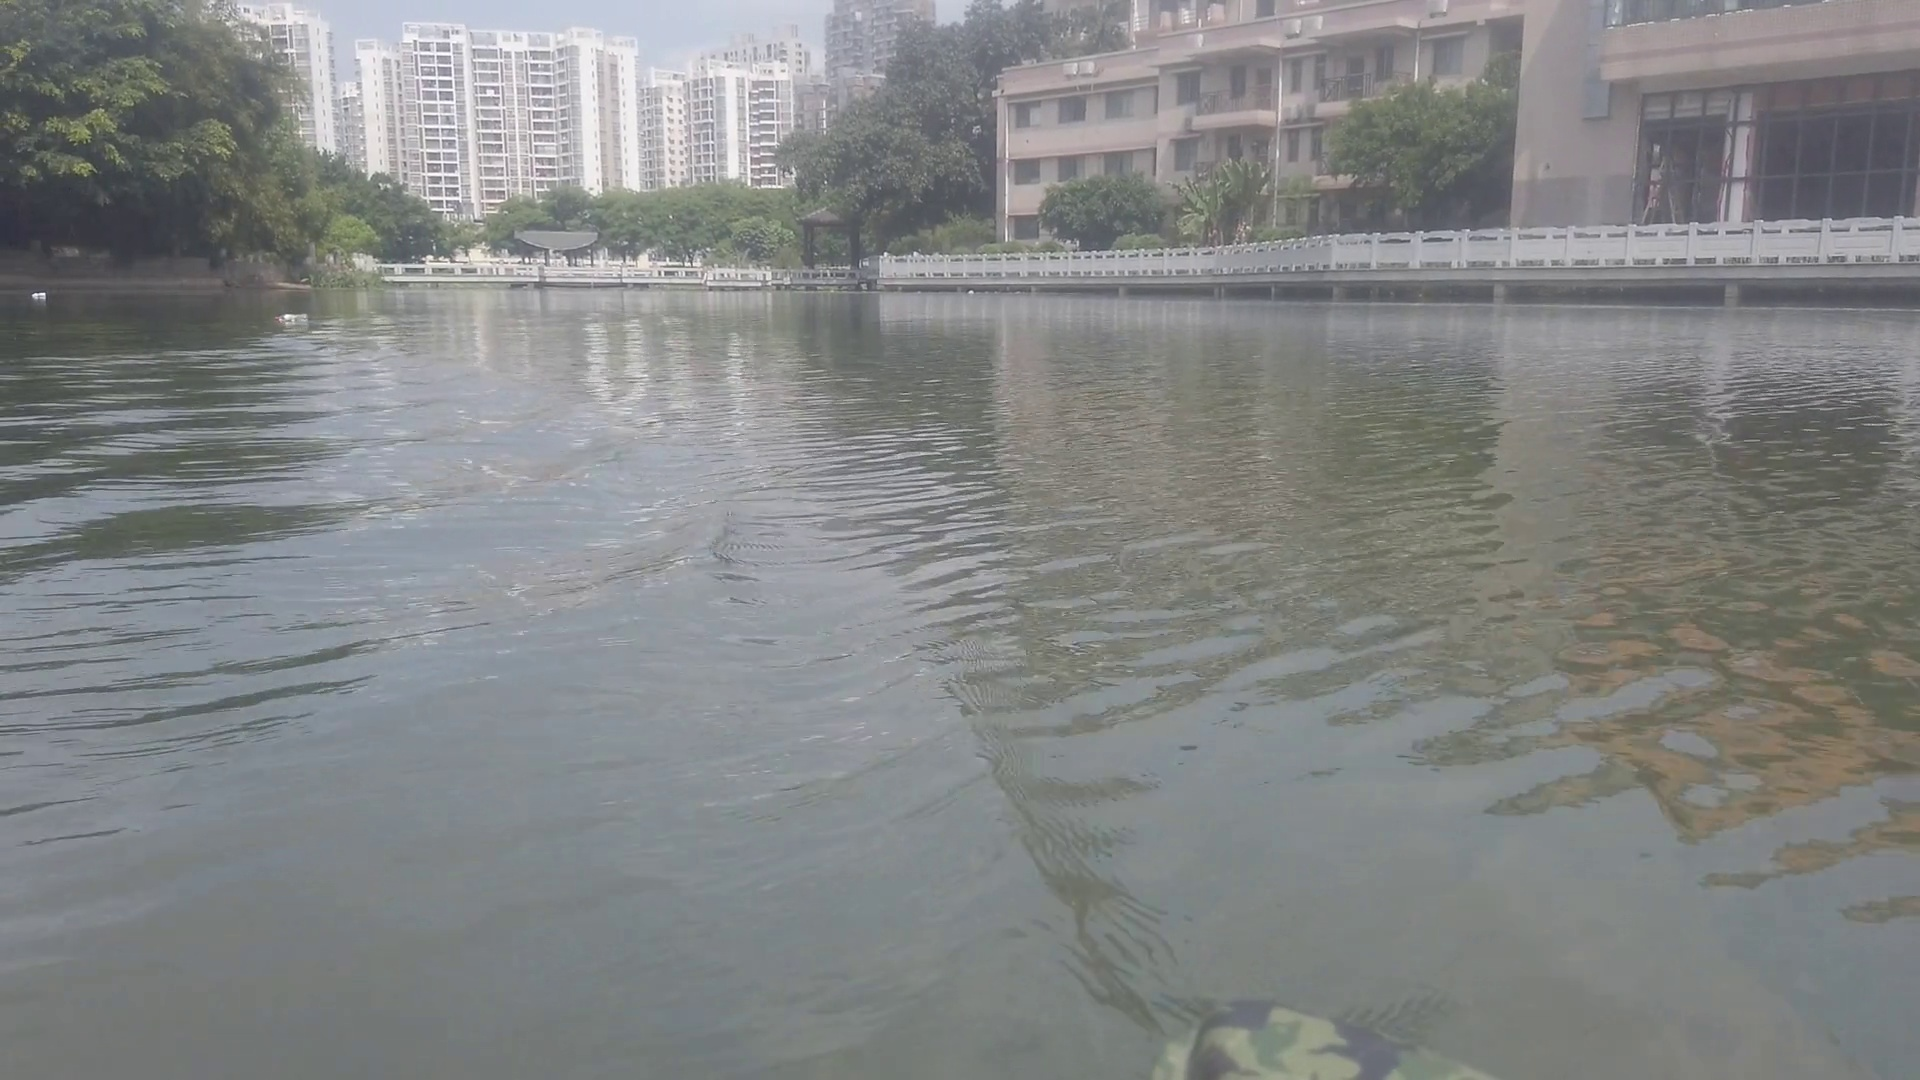bottle: (28, 287, 51, 299)
